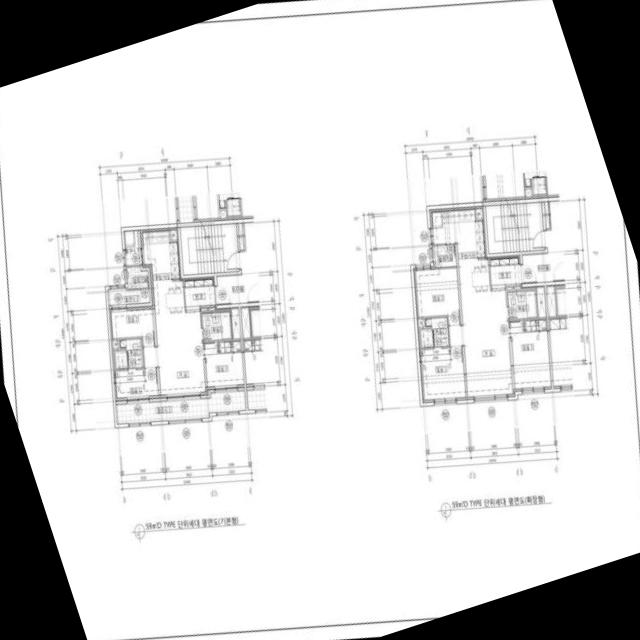background: (0, 0, 640, 640)
space_balconi: (115, 391, 245, 424), (107, 288, 149, 305), (124, 230, 140, 265)
space_bedroom: (509, 319, 551, 391), (413, 267, 460, 325), (419, 347, 465, 402), (204, 340, 243, 389), (109, 306, 154, 346), (113, 369, 158, 401)
space_elevator_hall: (216, 222, 259, 305), (522, 200, 565, 283)
space_front: (489, 255, 521, 291), (184, 276, 215, 312)
space_kitchen: (429, 206, 490, 293), (140, 228, 184, 314)
space_living_room: (449, 290, 514, 399), (143, 311, 207, 397)
space_other: (536, 286, 546, 317), (231, 307, 240, 339), (238, 223, 244, 250), (544, 201, 549, 228), (475, 206, 483, 219), (170, 227, 178, 240), (111, 340, 118, 349), (417, 318, 424, 327), (506, 286, 520, 290), (201, 307, 214, 311)
space_outdoor_room: (433, 245, 456, 267), (126, 267, 148, 289)
space_staircase: (179, 223, 239, 275), (485, 202, 544, 254)
space_toilet: (202, 311, 231, 341), (507, 290, 536, 319), (420, 317, 448, 347), (115, 339, 143, 369)
